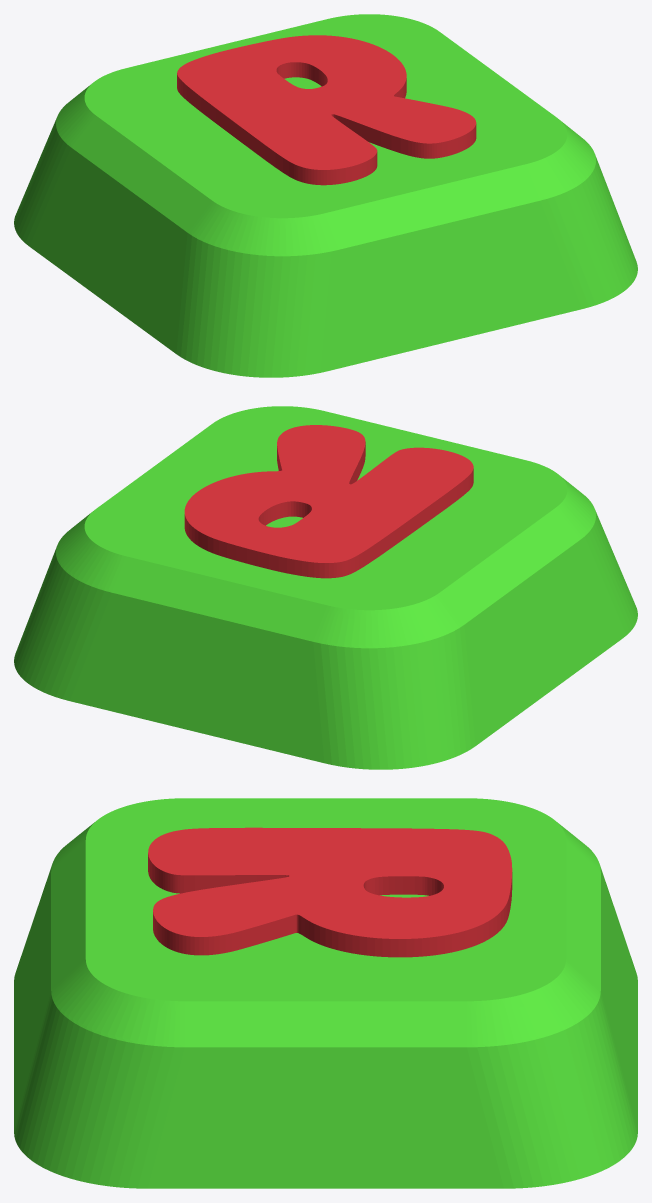
The picture shows the model from 3 angles, top to bottom: view 1: azimuth 30°, elevation 25°; view 2: azimuth 150°, elevation 25°; view 3: azimuth 270°, elevation 25°; orthographic projection. The views are drawn at different scales.
Parts seen in each view (by area): view 1: FONT_R, CAPS_R; view 2: FONT_R, CAPS_R; view 3: FONT_R, CAPS_R.
Boxes of the visible parts, <box> form: FONT_R: <box>14,14,637,377</box>; CAPS_R: <box>177,35,476,185</box>; FONT_R: <box>14,406,637,769</box>; CAPS_R: <box>184,425,473,578</box>; FONT_R: <box>14,798,637,1188</box>; CAPS_R: <box>148,827,512,957</box>.
Size of the model in its own units: 18 by 5.59 by 18.
